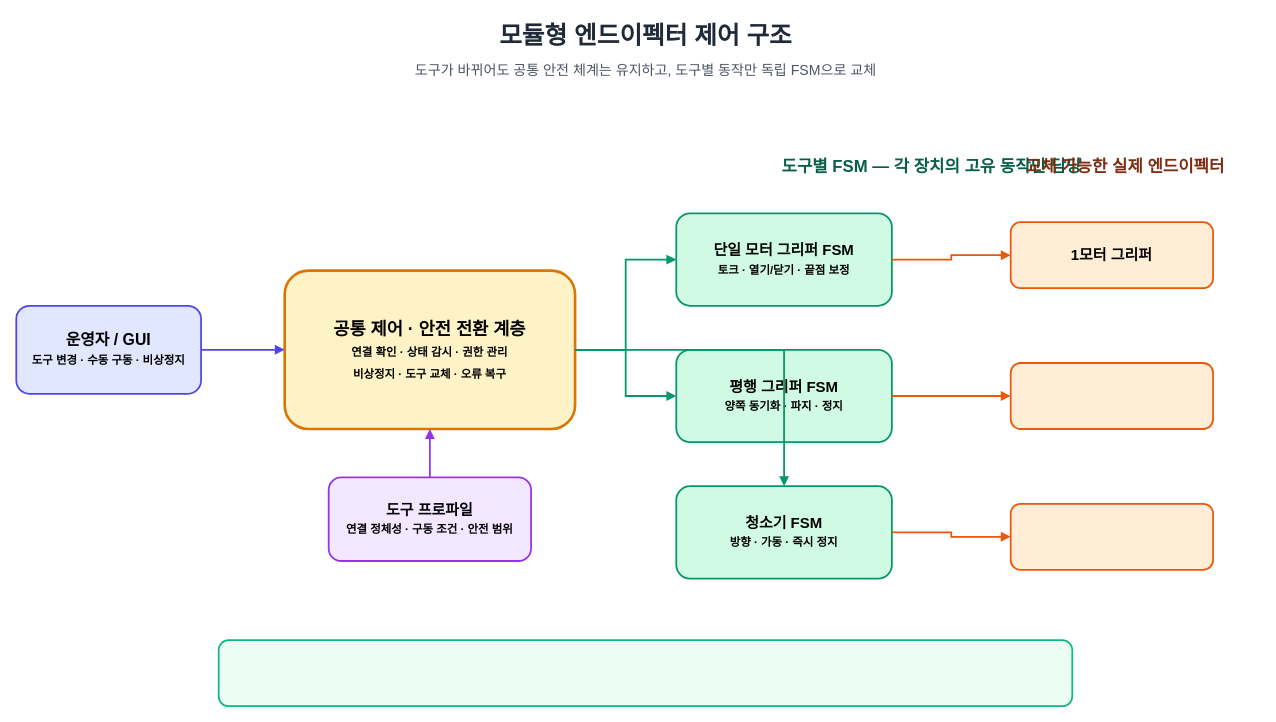
Some shapes in this 1276 by 722 pixel diagram are drawn without their labels. The centre of each missing label's shape, as x and y in pixels:
"청소기" goes at (x=1111, y=536).
"평행 그리퍼" goes at (x=1111, y=395).
"확장 효과: 새 도구는 ‘프로파일 + 전용 FSM’만 추가하면 공통 GUI·안전 정책·로봇팔 제어를 그대로 재사용" goes at (x=645, y=673).
